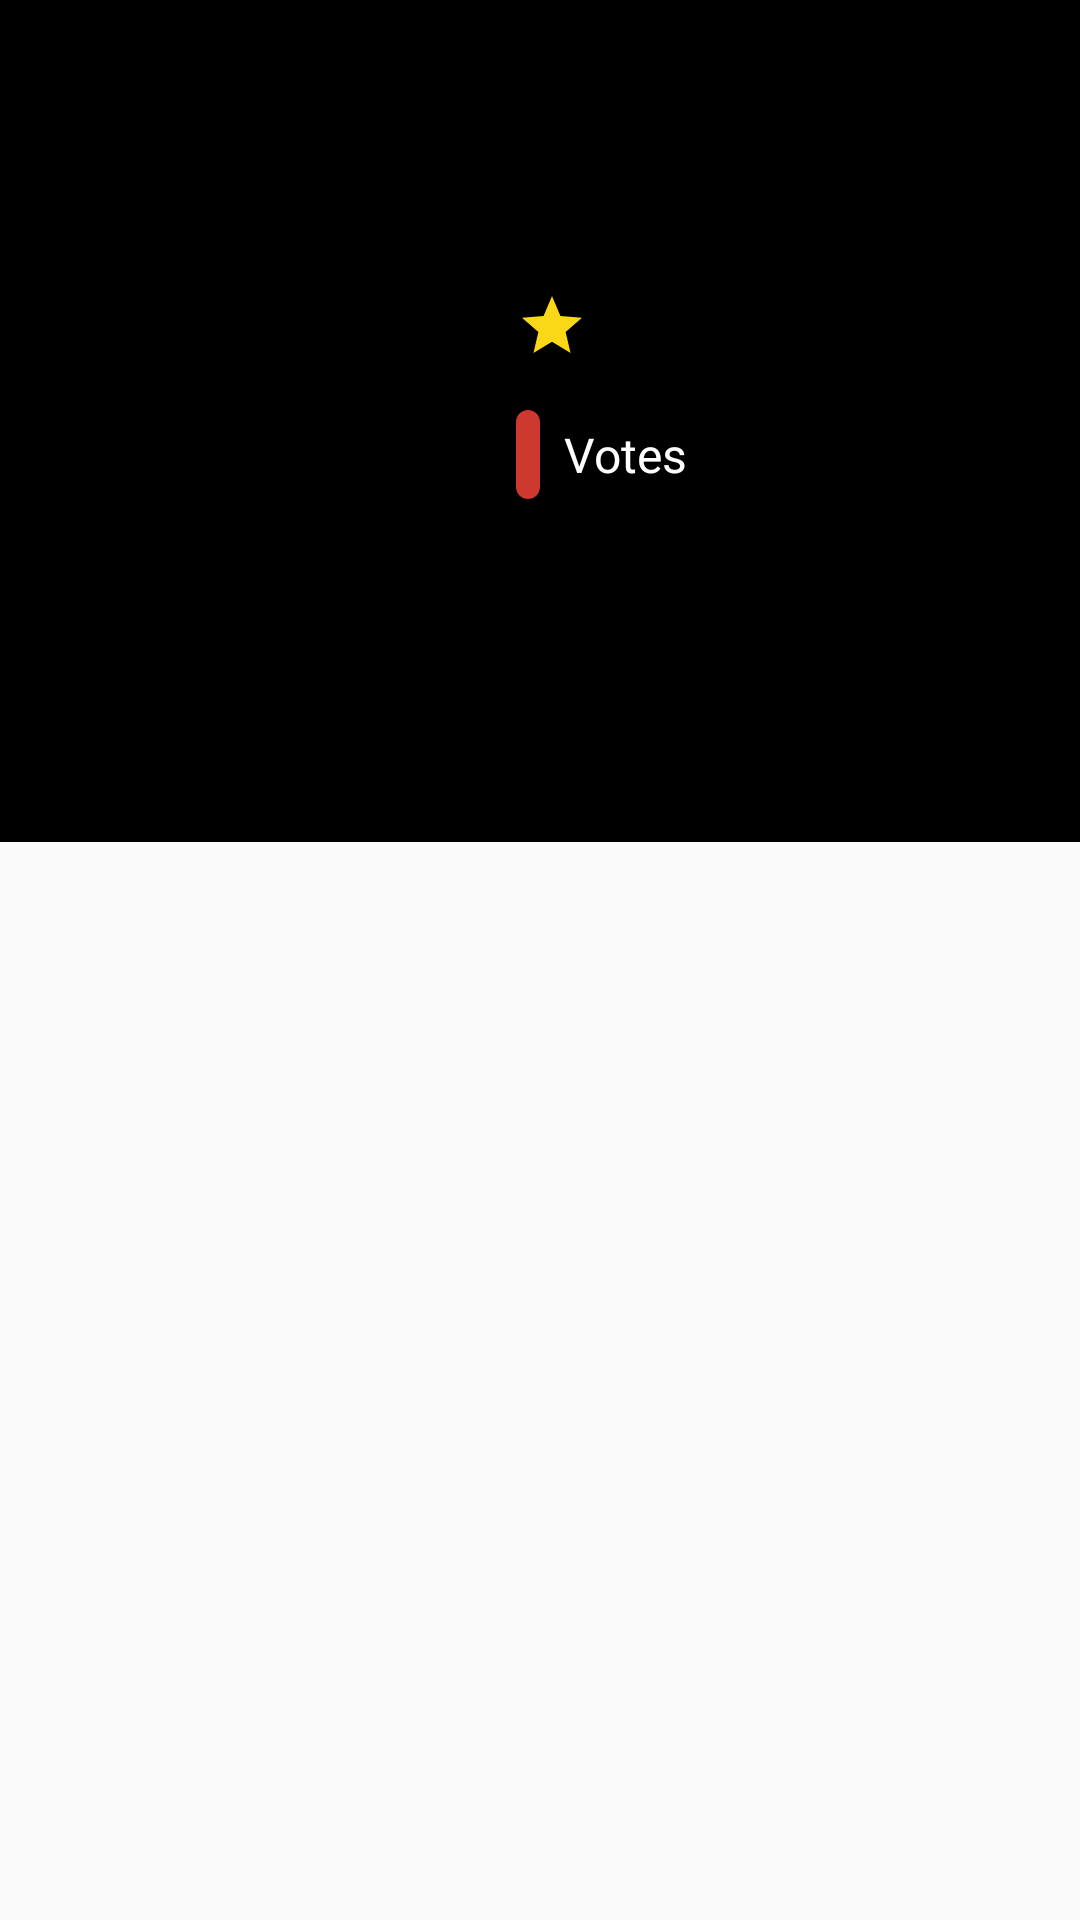

Point at icon controls on the screen. Image size 1080 x 1920, points as point (x, y).
star: point (552, 324)
